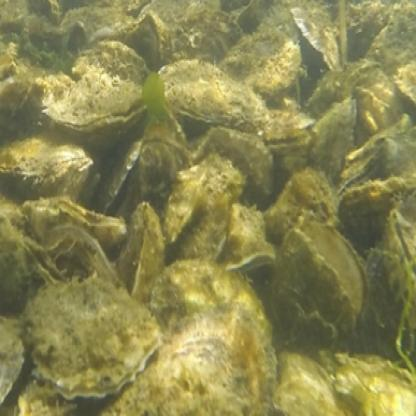Oyster- Indeterminate: (25, 278, 161, 404), (297, 217, 366, 317), (47, 65, 143, 135), (310, 94, 362, 187), (221, 203, 276, 277), (384, 209, 416, 317), (62, 201, 126, 253), (128, 14, 174, 75), (19, 237, 65, 287), (342, 152, 386, 198), (266, 123, 310, 159)
Oyster-Closed: (70, 261, 280, 416), (266, 229, 361, 357), (161, 158, 249, 263), (166, 65, 267, 128), (339, 176, 412, 260), (263, 171, 344, 244), (0, 136, 90, 198), (225, 29, 301, 94), (120, 207, 168, 302), (279, 352, 350, 416), (166, 164, 204, 249), (398, 57, 416, 104)
